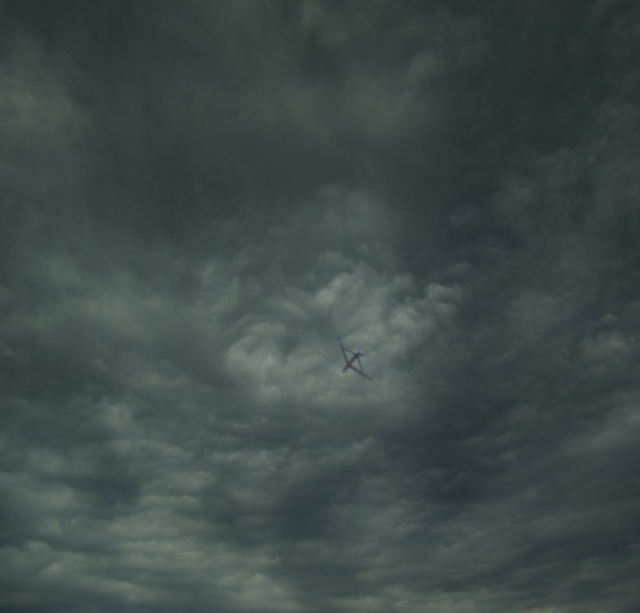military drone: (335, 333, 374, 384)
